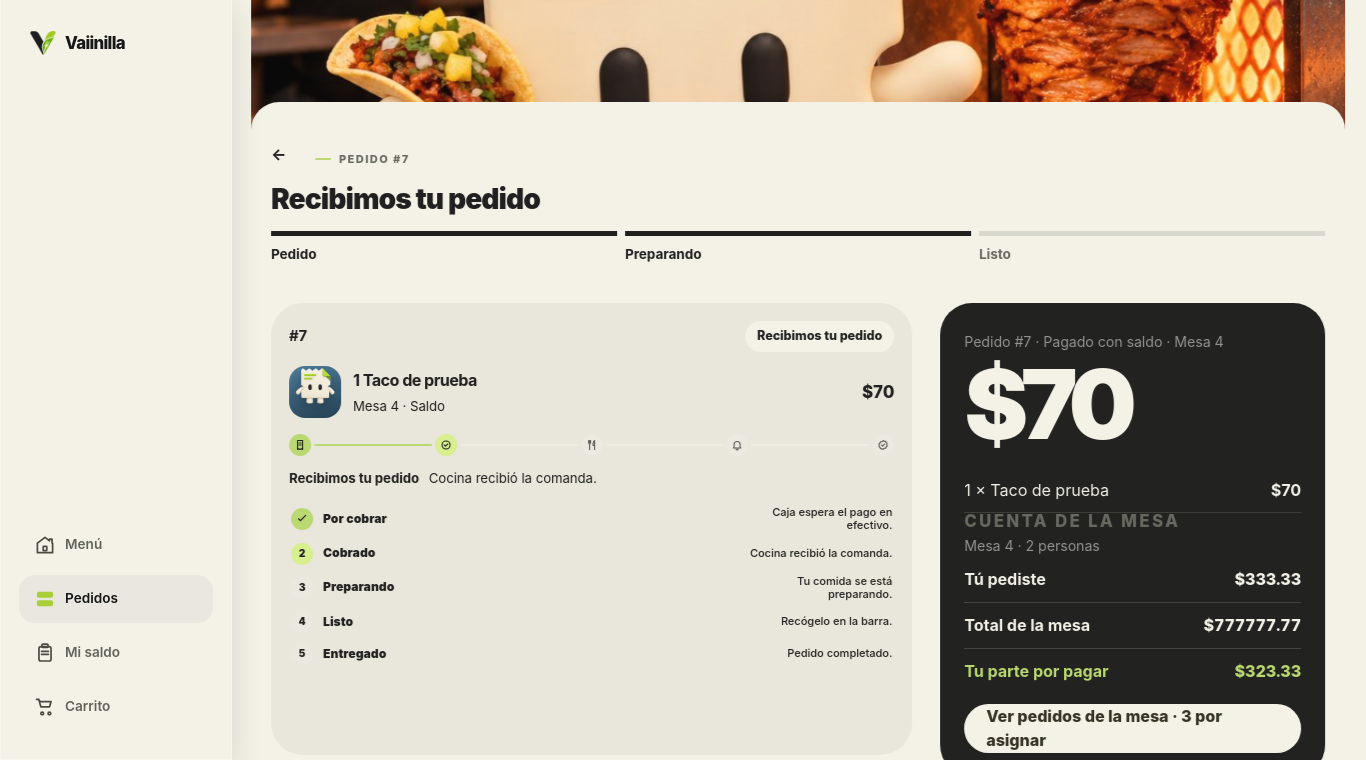
Test: OrderDetailPage › muestra cada participante una vez, agrupa sus pedidos y usa los montos del backend
The image size is (1366, 760).
(page scrolled)
Expected: the heading "Cuenta de la mesa" is shown, x1=965 y1=511 x2=1181 y2=531
Step 1. Click the heading "Ver pedidos de la mesa · 3 por asignar" → (1134, 728), box x1=965 y1=704 x2=1302 y2=753
(page scrolled)
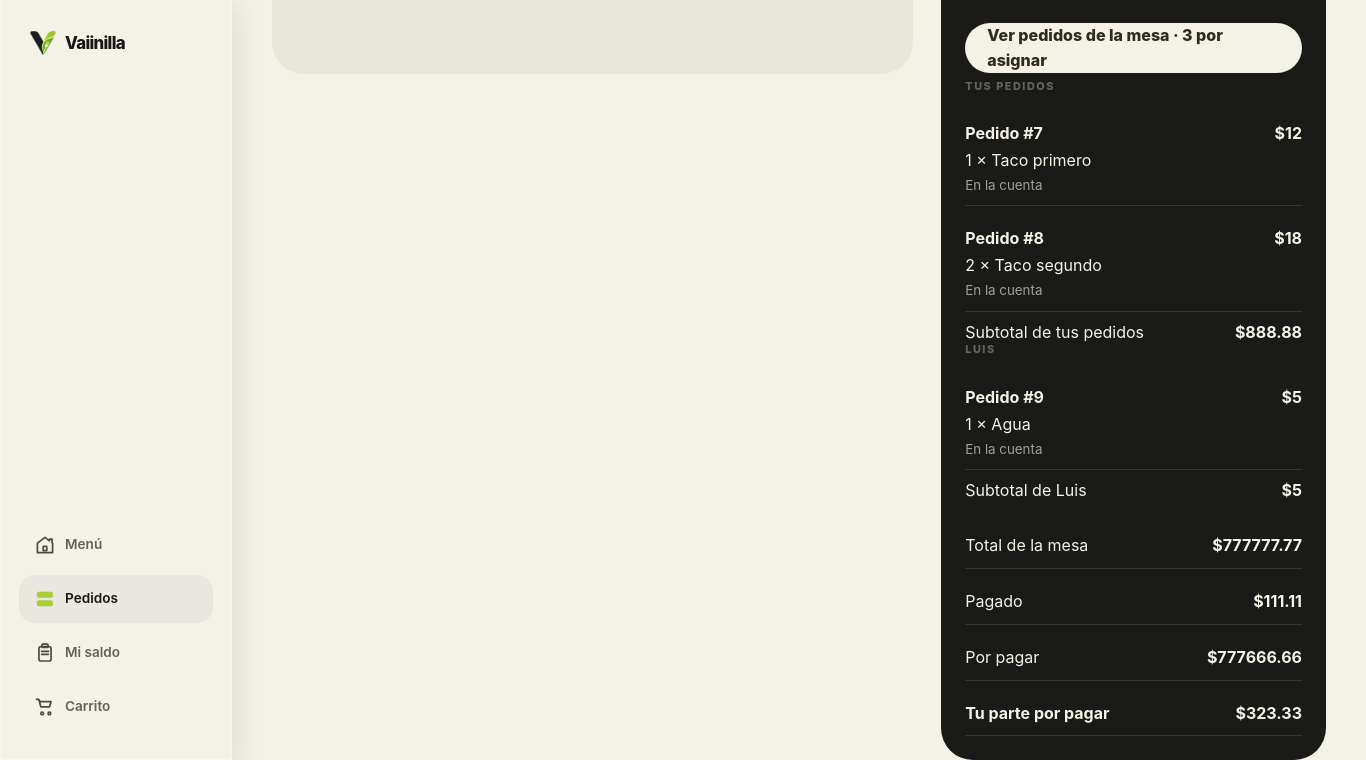
Expected: the number of headings "Tus pedidos" is 1, x1=965 y1=78 x2=1055 y2=92
Expected: the number of headings "Luis" is 1, x1=965 y1=342 x2=996 y2=356
Expected: the text "1 × Taco primero" is shown, x1=965 y1=148 x2=1091 y2=173
